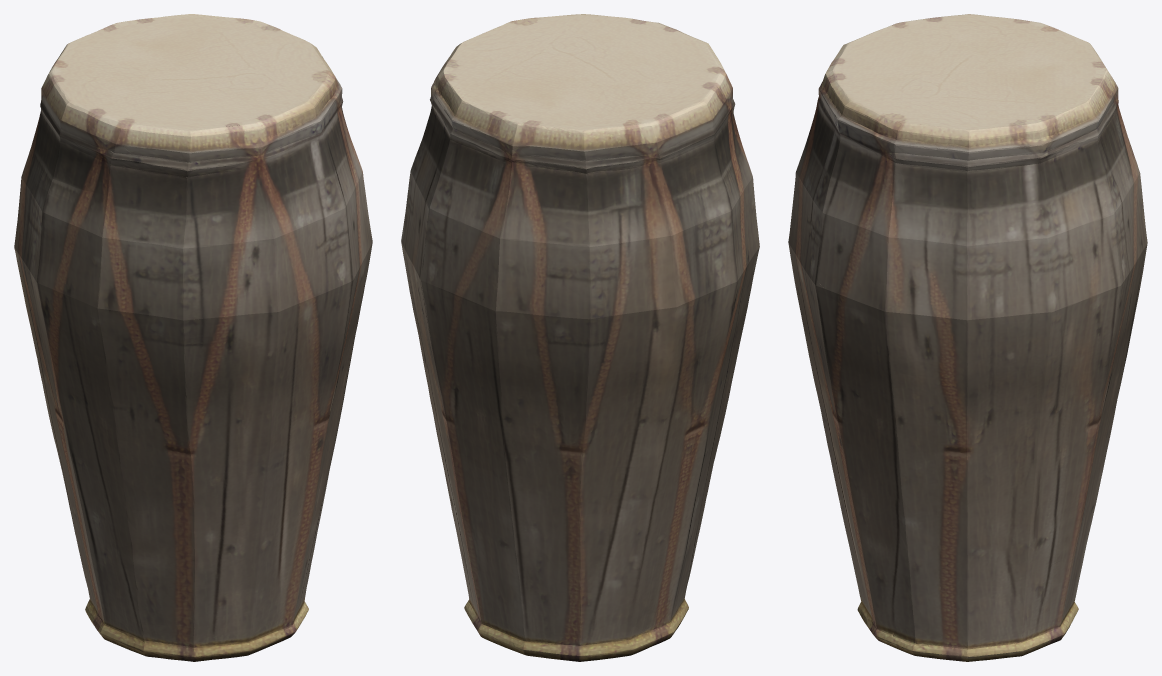
3 renders of one model, left to right at view 1: azimuth 30°, elevation 25°; view 2: azimuth 150°, elevation 25°; view 3: azimuth 270°, elevation 25°, orthographic.
Visible parts, largest first — view 1: world; view 2: world; view 3: world.
Part boxes in pixels (<box>): world: <box>14,14,372,661</box>; world: <box>401,14,759,661</box>; world: <box>788,14,1147,661</box>.
Size of the model in its own units: 0.5953 by 0.9995 by 0.5982.
1 material, 1 textured.
